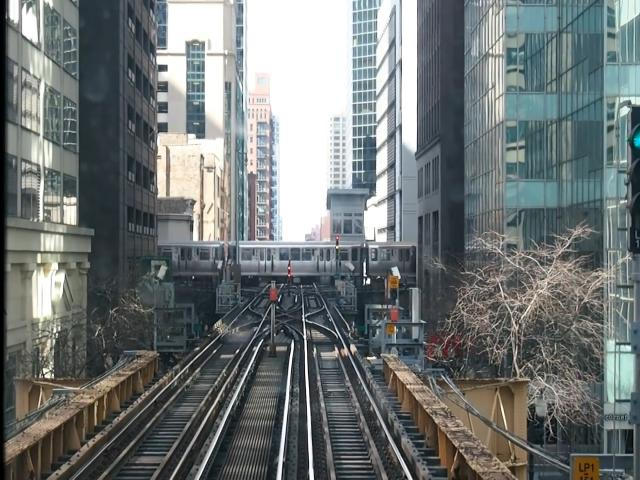signal light: (625, 103, 640, 261)
